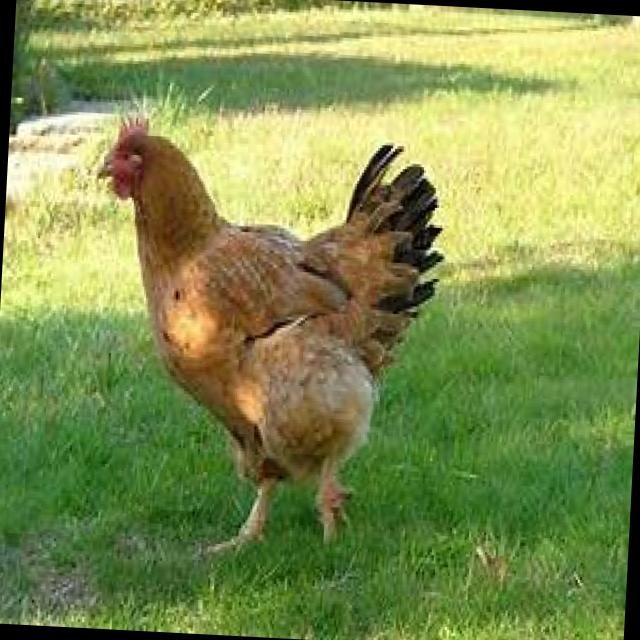animal: (75, 110, 452, 572)
